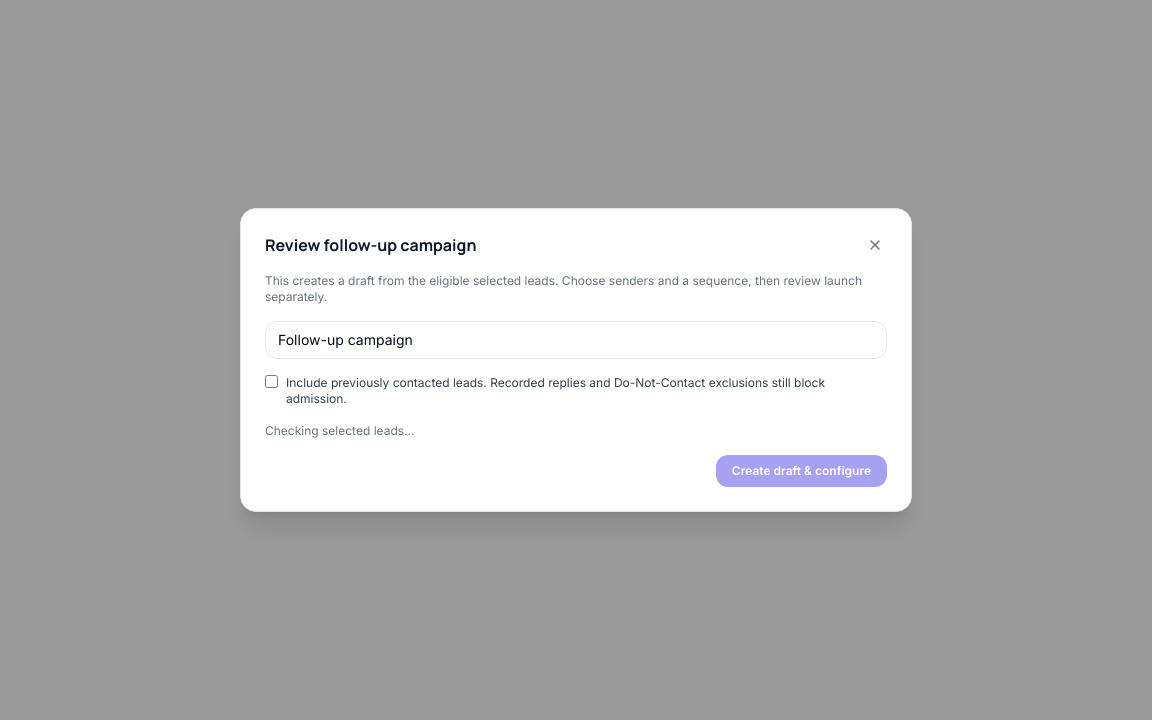
Test: Canonical lead tags and reviewed draft controls › ignores an older follow-up preview after the inclusion rule changes
Click the checkbox.
click(272, 382)  # box x1=265 y1=375 x2=278 y2=388
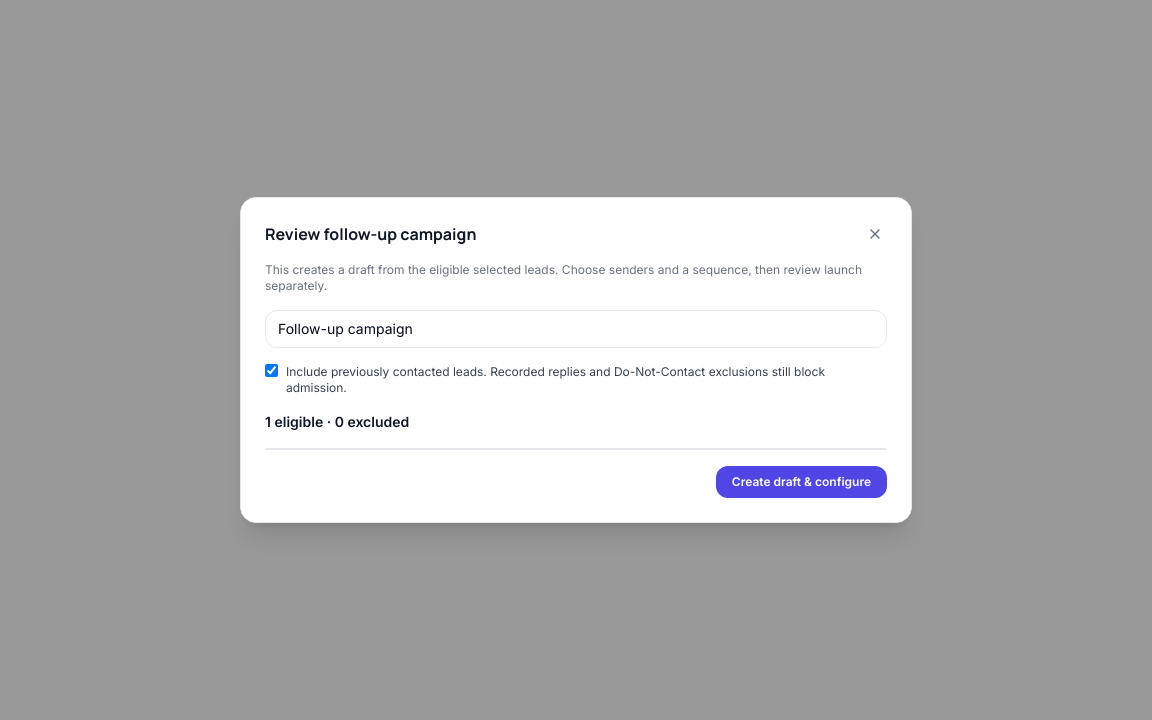
Result: the text "1 eligible" is shown at x1=265 y1=413 x2=409 y2=430
Result: the button "Create draft & configure" is enabled at x1=716 y1=466 x2=887 y2=498
